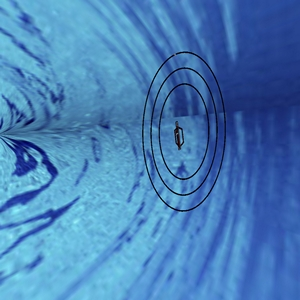circle: (127, 15, 233, 223)
submarine: (168, 120, 192, 153)
